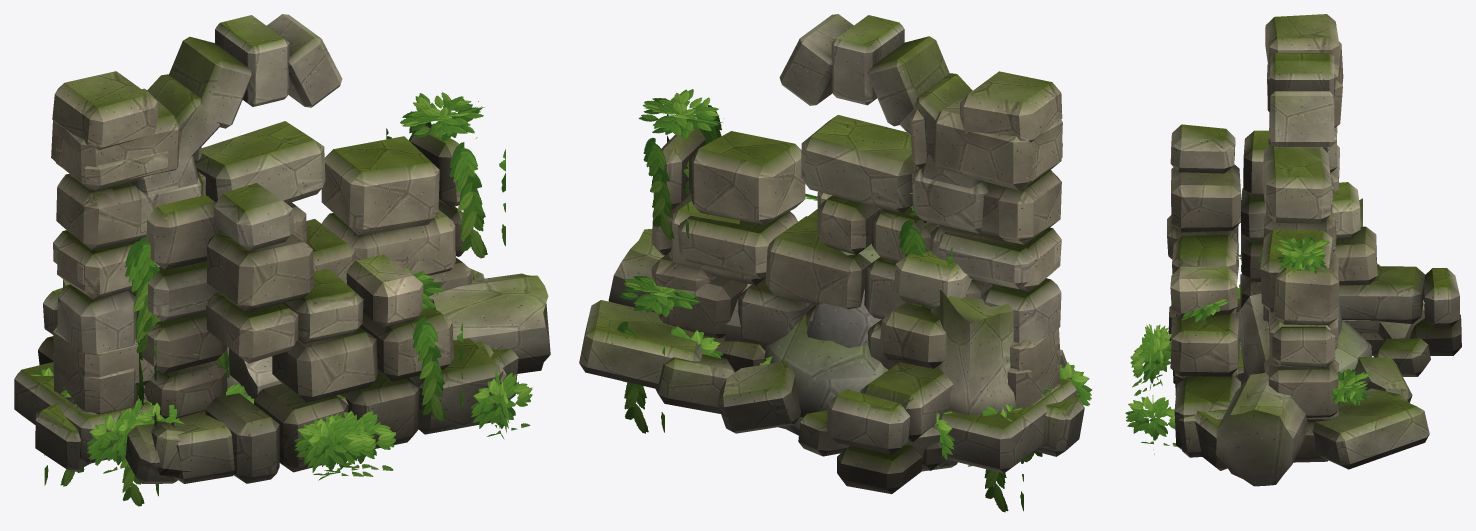
The model's file is kit_field.glb.
3 views of the same model, side by side, from view 1: azimuth 30°, elevation 25°; view 2: azimuth 150°, elevation 25°; view 3: azimuth 270°, elevation 25° (orthographic). The views are drawn at different scales.
Visible parts, largest first — view 1: ruin_wall_b_mesh, ruin_wall_c_mesh, ruin_wall_a_mesh, ruin_column_fallen_mesh; view 2: ruin_wall_c_mesh, ruin_wall_a_mesh, ruin_column_fallen_mesh, ruin_wall_b_mesh, rock_field_a_mesh, rock_field_c_mesh; view 3: ruin_wall_b_mesh, ruin_wall_c_mesh, ruin_column_fallen_mesh, ruin_wall_a_mesh, rock_field_a_mesh.
Boxes of the visible parts, x1,y1,x2,y2 form: ruin_wall_b_mesh: (35,183,532,483); ruin_wall_c_mesh: (51,14,518,483); ruin_wall_a_mesh: (25,71,510,506); ruin_column_fallen_mesh: (14,268,550,467); ruin_wall_c_mesh: (638,14,1074,413); ruin_wall_a_mesh: (659,71,1092,512); ruin_column_fallen_mesh: (579,229,1076,473); ruin_wall_b_mesh: (798,192,1084,494); rock_field_a_mesh: (764,314,883,428); rock_field_c_mesh: (806,244,881,347); ruin_wall_b_mesh: (1125,124,1461,454); ruin_wall_c_mesh: (1194,41,1408,470); ruin_column_fallen_mesh: (1216,198,1429,486); ruin_wall_a_mesh: (1178,14,1424,462); rock_field_a_mesh: (1239,320,1371,403).
Size of the model in its own units: 3.35 by 2.86 by 2.43.
Materials: 3 (3 with a texture image).
